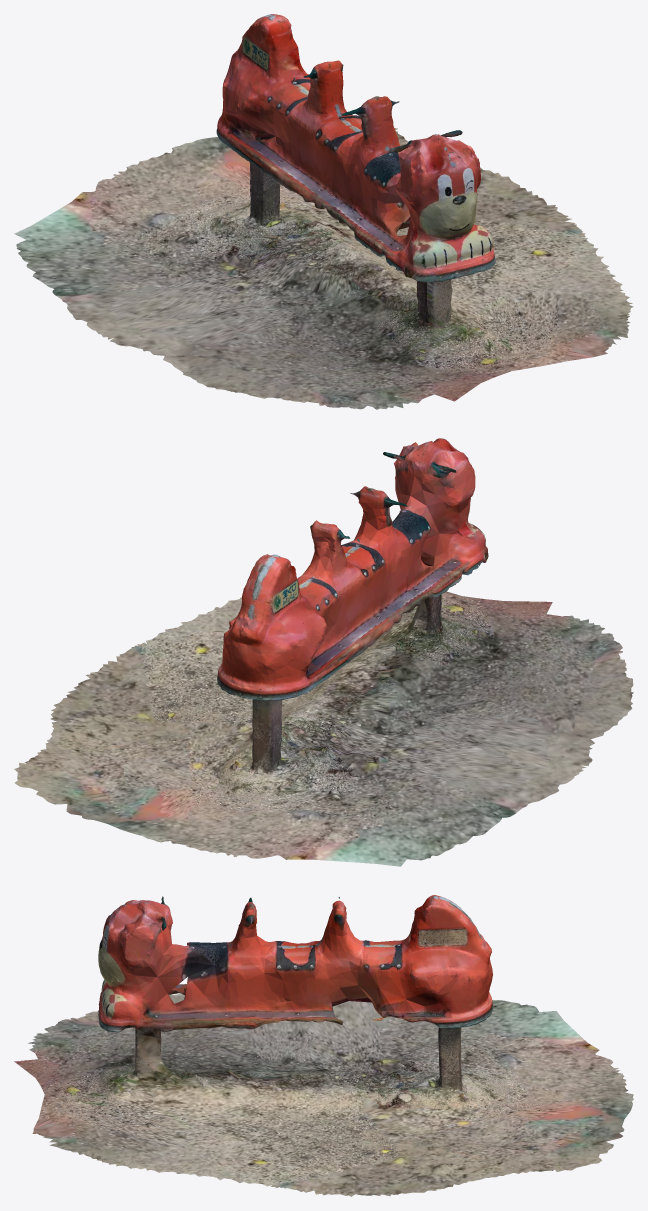
The model's file is chien-place-de-jeu.glb.
3 renders of one model, top to bottom at view 1: azimuth 30°, elevation 25°; view 2: azimuth 150°, elevation 25°; view 3: azimuth 270°, elevation 25°, orthographic. The views are drawn at different scales.
Visible parts, largest first — view 1: mesh; view 2: mesh; view 3: mesh.
Part boxes in pixels (<box>): mesh: <box>14,14,633,409</box>; mesh: <box>14,438,633,866</box>; mesh: <box>14,895,633,1196</box>.
Bounding box in the file's own units: 2.33 × 1.02 × 2.86.
1 material, 1 textured.
